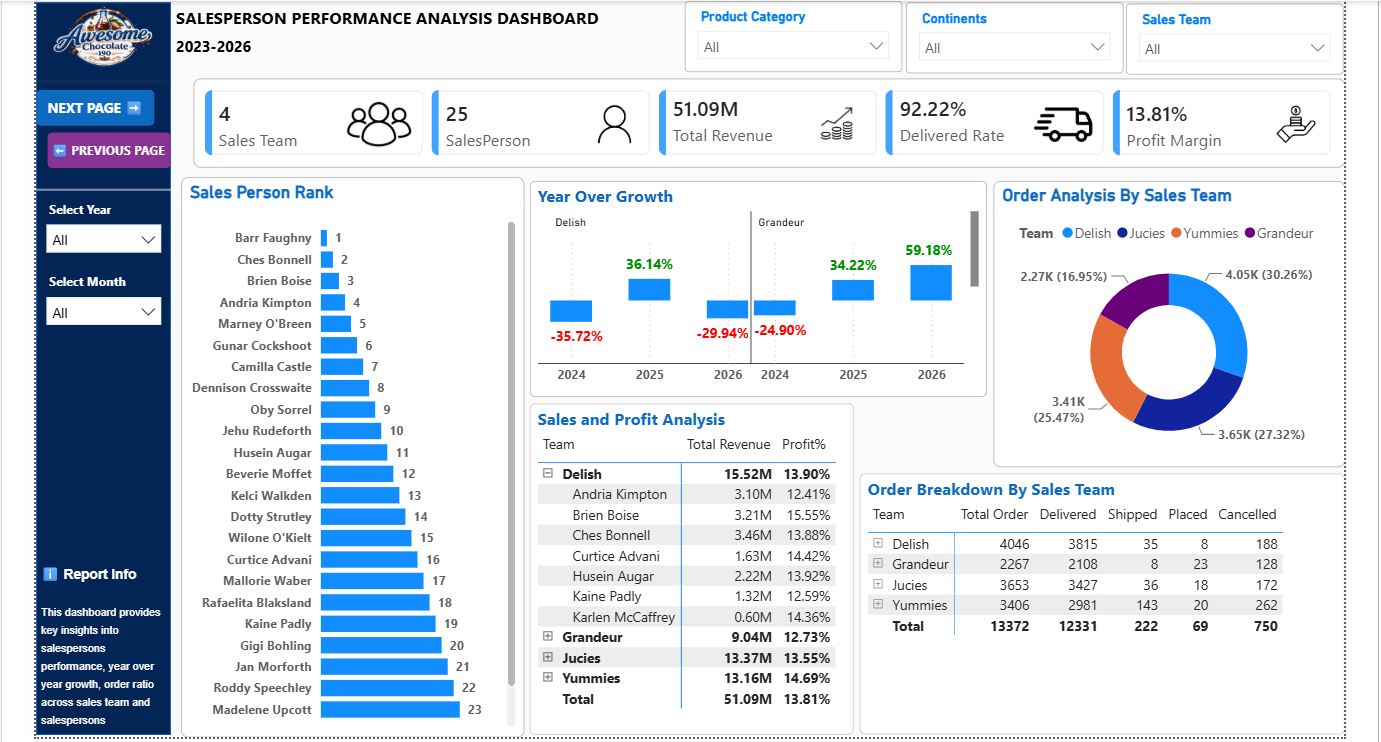

This screenshot's page, from the dashboard's own definition file:
{"tool":"powerbi","page":{"name":"👪 SALESPERSON PERFORMANCE ANALYSIS","canvas":[1280,720],"ordinal":3},"visuals":[{"type":"shape","box":[0,1,132,717],"z":0},{"type":"image","box":[0,0,132,77],"z":1000},{"type":"textbox","box":[132.1,0,428,48.9],"z":2000},{"type":"slicer","fields":{"Values":["Product_Table.Category"]},"box":[634.7,0,212.8,69.7],"z":3000},{"type":"textbox","box":[132,29,116,32],"z":4000},{"type":"slicer","fields":{"Values":["Date_Table.Date.Variation.Date Hierarchy.Year"]},"box":[0,190.8,132.1,69.7],"z":5000},{"type":"slicer","fields":{"Values":["Date_Table.Date.Variation.Date Hierarchy.Month"]},"box":[0,261.7,132.1,68.5],"z":6000},{"type":"textbox","box":[0,546.6,132.1,173.6],"z":7000},{"type":"slicer","fields":{"Values":["Geography_Table.Continent"]},"box":[851.1,1.2,212.8,69.7],"z":8000},{"type":"slicer","fields":{"Values":["SalesPerson_Table.Team"]},"box":[1066.3,2.4,212.8,69.7],"z":9000},{"type":"actionButton","box":[0,86.8,116.2,35.5],"z":10000},{"type":"actionButton","box":[11,128.4,121.1,35.5],"z":11000},{"type":"shape","box":[0,178.5,154.1,12.2],"z":12000},{"type":"pivotTable","title":"Sales and Profit Analysis","fields":{"Rows":["SalesPerson_Table.Team","SalesPerson_Table.Sales_person"],"Values":["1 Sales Analysis Measures.Total Revenue","1 Sales Analysis Measures.Profit%"]},"box":[483,393.8,316.7,324.1],"z":13000},{"type":"donutChart","title":"Order Analysis By Sales Team","fields":{"Category":["SalesPerson_Table.Team"],"Y":["2 Order Analysis Measures.Total Order"]},"box":[936.7,176.1,343.6,280],"z":14000},{"type":"clusteredColumnChart","title":"Year Over Growth","fields":{"Category":["Date_Table.Date.Variation.Date Hierarchy.Year"],"Rows":["SalesPerson_Table.Team"],"Y":["6 Time Intelligence Measures.YOYGrowth%"]},"box":[483,176.1,447.6,211.6],"z":15000},{"type":"cardVisual","fields":{"Data":["5 SalesPerson Analysis Measures.Total Team","5 SalesPerson Analysis Measures.Total SalesPerson","1 Sales Analysis Measures.Total Revenue","2 Order Analysis Measures.Delivered%","1 Sales Analysis Measures.Profit%"]},"box":[153.8,75.8,1126.2,86.8],"z":16000},{"type":"pivotTable","title":"Order Breakdown By Sales Team","fields":{"Rows":["SalesPerson_Table.Team","SalesPerson_Table.Sales_person"],"Values":["2 Order Analysis Measures.Total Order","2 Order Analysis Measures.Delivered Order","2 Order Analysis Measures.Shipped Order","2 Order Analysis Measures.Placed Order","2 Order Analysis Measures.Cancelled Order"]},"box":[805.8,462.2,474.5,255.6],"z":17000},{"type":"clusteredBarChart","title":"Sales Person Rank","fields":{"Category":["SalesPerson_Table.Sales_person"],"Y":["5 SalesPerson Analysis Measures.SalesPerson Rank"]},"box":[141.8,172.2,336.3,547.8],"z":18000}]}

Visuals, with their boxes on the page's 1280x720 design canvas (x1, y1, x2, y2). These are canvas units, not pixel positions in the 1381x742 screenshot, which may show the page scaled, cropped or inside an application window:
shape: {"left": 0, "top": 1, "right": 132, "bottom": 718}
image: {"left": 0, "top": 0, "right": 132, "bottom": 77}
textbox: {"left": 132, "top": 0, "right": 560, "bottom": 49}
slicer - Product_Table.Category: {"left": 635, "top": 0, "right": 848, "bottom": 70}
textbox: {"left": 132, "top": 29, "right": 248, "bottom": 61}
slicer - Date_Table.Date.Variation.Date Hierarchy.Year: {"left": 0, "top": 191, "right": 132, "bottom": 260}
slicer - Date_Table.Date.Variation.Date Hierarchy.Month: {"left": 0, "top": 262, "right": 132, "bottom": 330}
textbox: {"left": 0, "top": 547, "right": 132, "bottom": 720}
slicer - Geography_Table.Continent: {"left": 851, "top": 1, "right": 1064, "bottom": 71}
slicer - SalesPerson_Table.Team: {"left": 1066, "top": 2, "right": 1279, "bottom": 72}
actionButton: {"left": 0, "top": 87, "right": 116, "bottom": 122}
actionButton: {"left": 11, "top": 128, "right": 132, "bottom": 164}
shape: {"left": 0, "top": 178, "right": 154, "bottom": 191}
"Sales and Profit Analysis" pivotTable: {"left": 483, "top": 394, "right": 800, "bottom": 718}
"Order Analysis By Sales Team" donutChart: {"left": 937, "top": 176, "right": 1280, "bottom": 456}
"Year Over Growth" clusteredColumnChart: {"left": 483, "top": 176, "right": 931, "bottom": 388}
cardVisual - 5 SalesPerson Analysis Measures.Total Team x 5 SalesPerson Analysis Measures.Total SalesPerson: {"left": 154, "top": 76, "right": 1280, "bottom": 163}
"Order Breakdown By Sales Team" pivotTable: {"left": 806, "top": 462, "right": 1280, "bottom": 718}
"Sales Person Rank" clusteredBarChart: {"left": 142, "top": 172, "right": 478, "bottom": 720}
